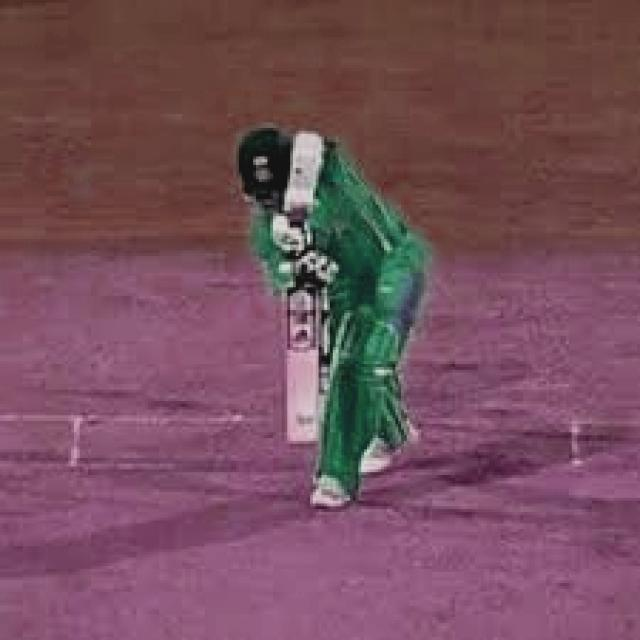bat: (280, 279, 323, 445)
